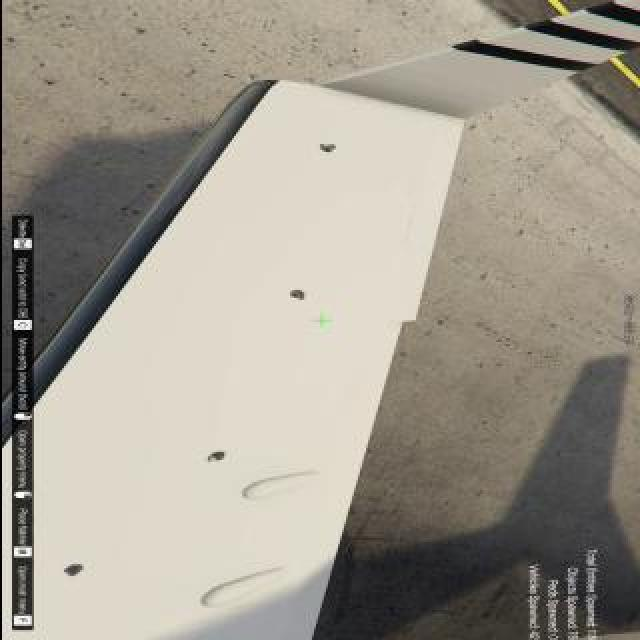crack: (200, 449, 230, 467), (60, 563, 88, 581), (315, 142, 339, 158), (285, 288, 309, 304)
